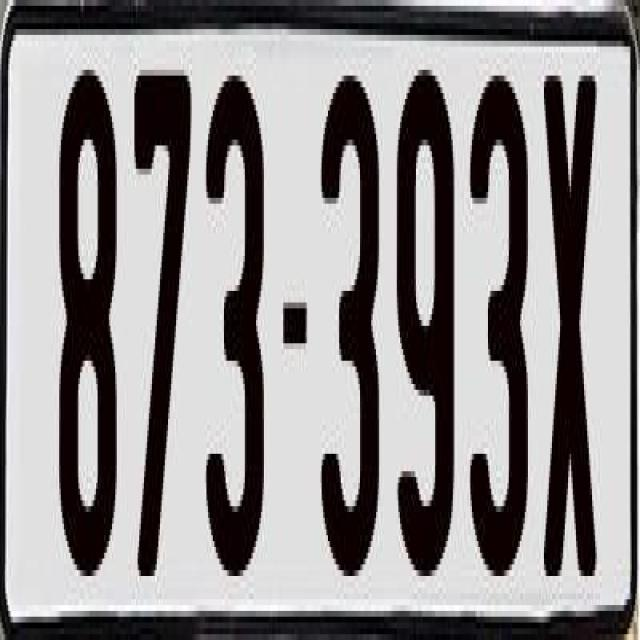3: (470, 70, 536, 606), (320, 70, 387, 576), (205, 58, 264, 559)
7: (132, 76, 194, 594)
8: (55, 52, 118, 558)
9: (396, 64, 454, 582)
X: (544, 64, 597, 594)
